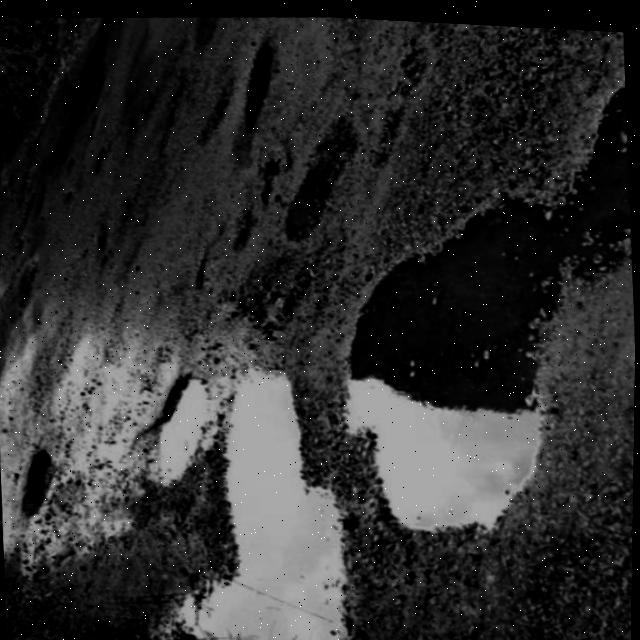Pothole: (309, 13, 640, 577), (86, 318, 406, 640), (274, 99, 356, 281), (229, 32, 289, 156), (5, 442, 70, 530), (182, 12, 233, 80)
